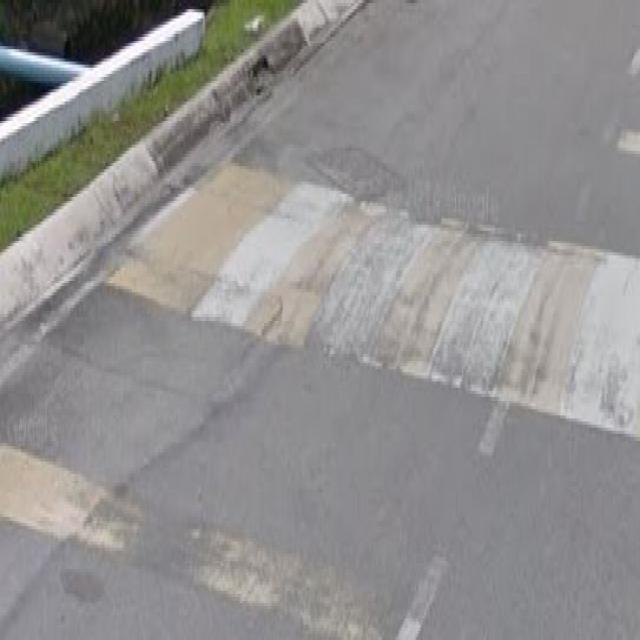speed-bump: (120, 101, 640, 452)
